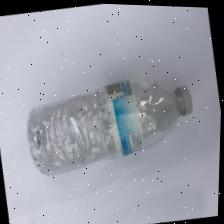plastic: (25, 77, 195, 175)
